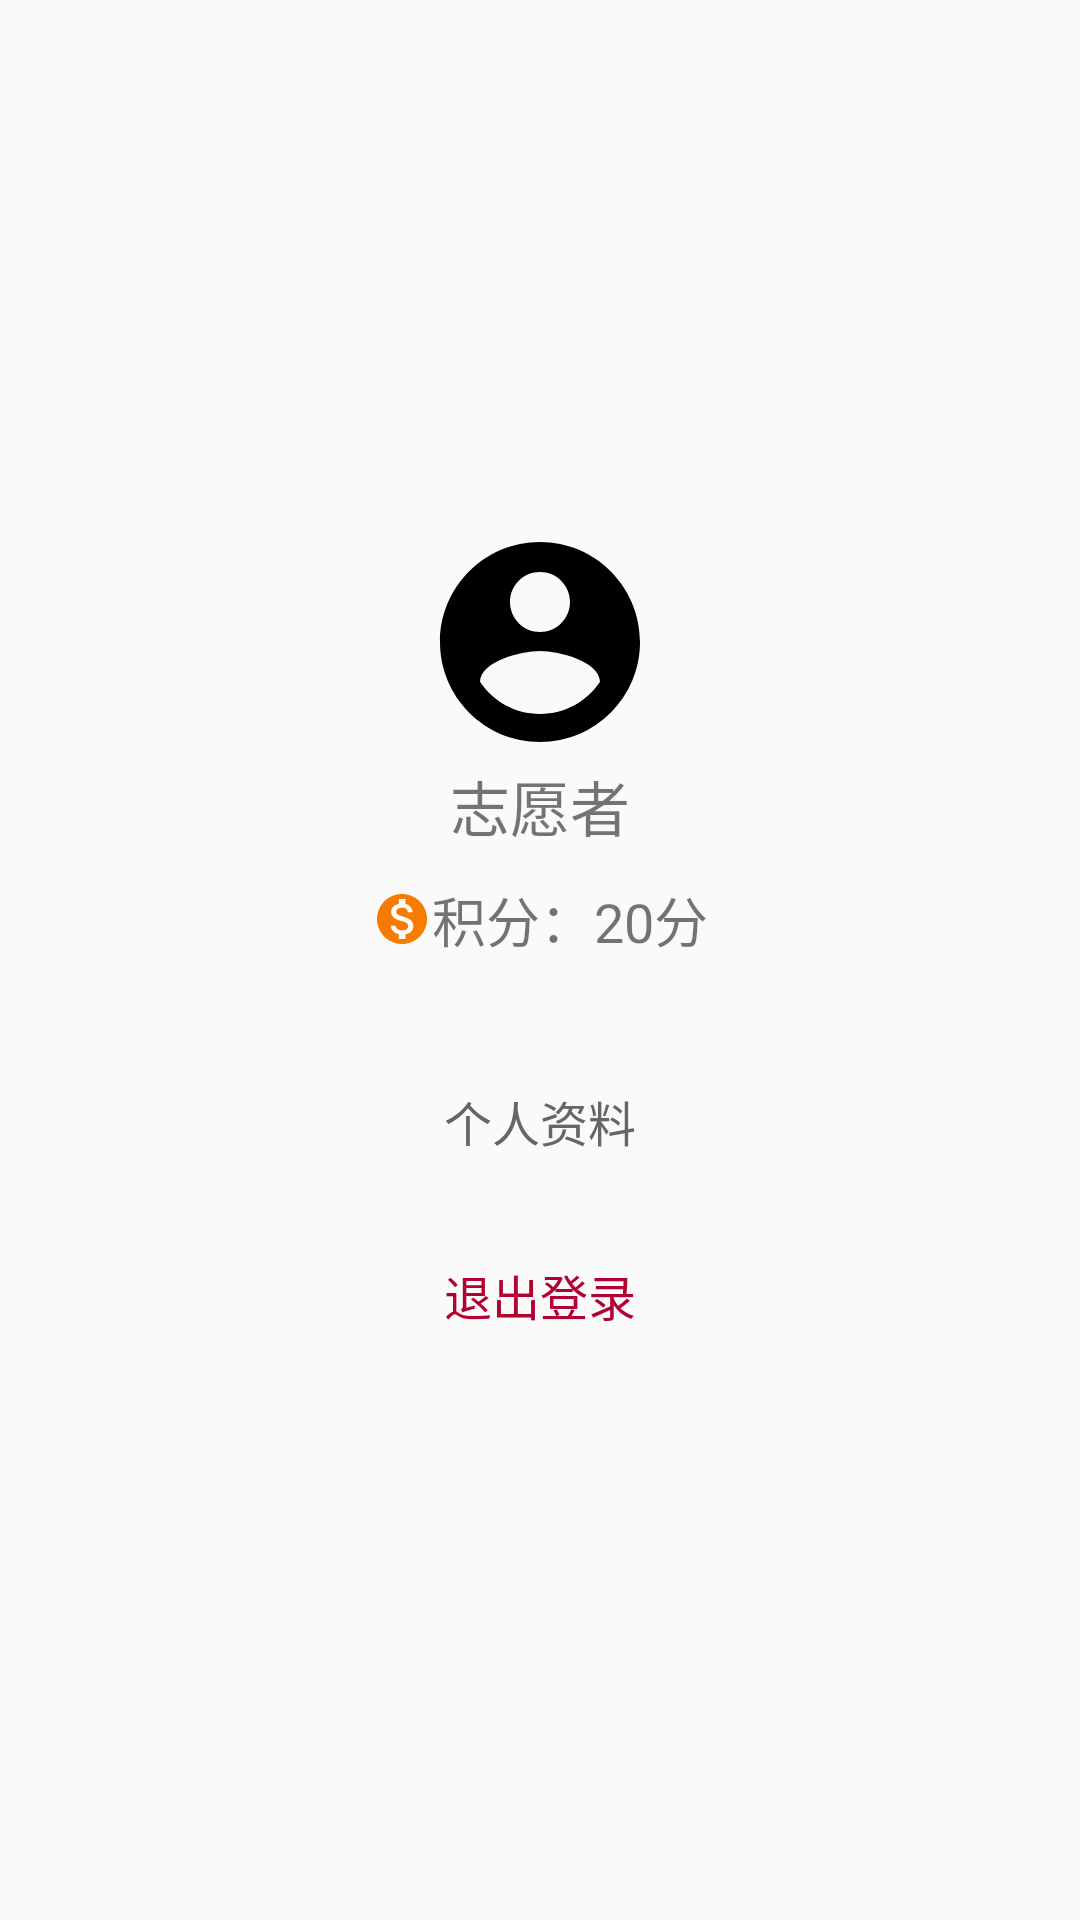

Where to tap for icons on this 1080 × 1920 app screen, as [x,y]:
account circle: [539,642]
monetization on: [402,919]
